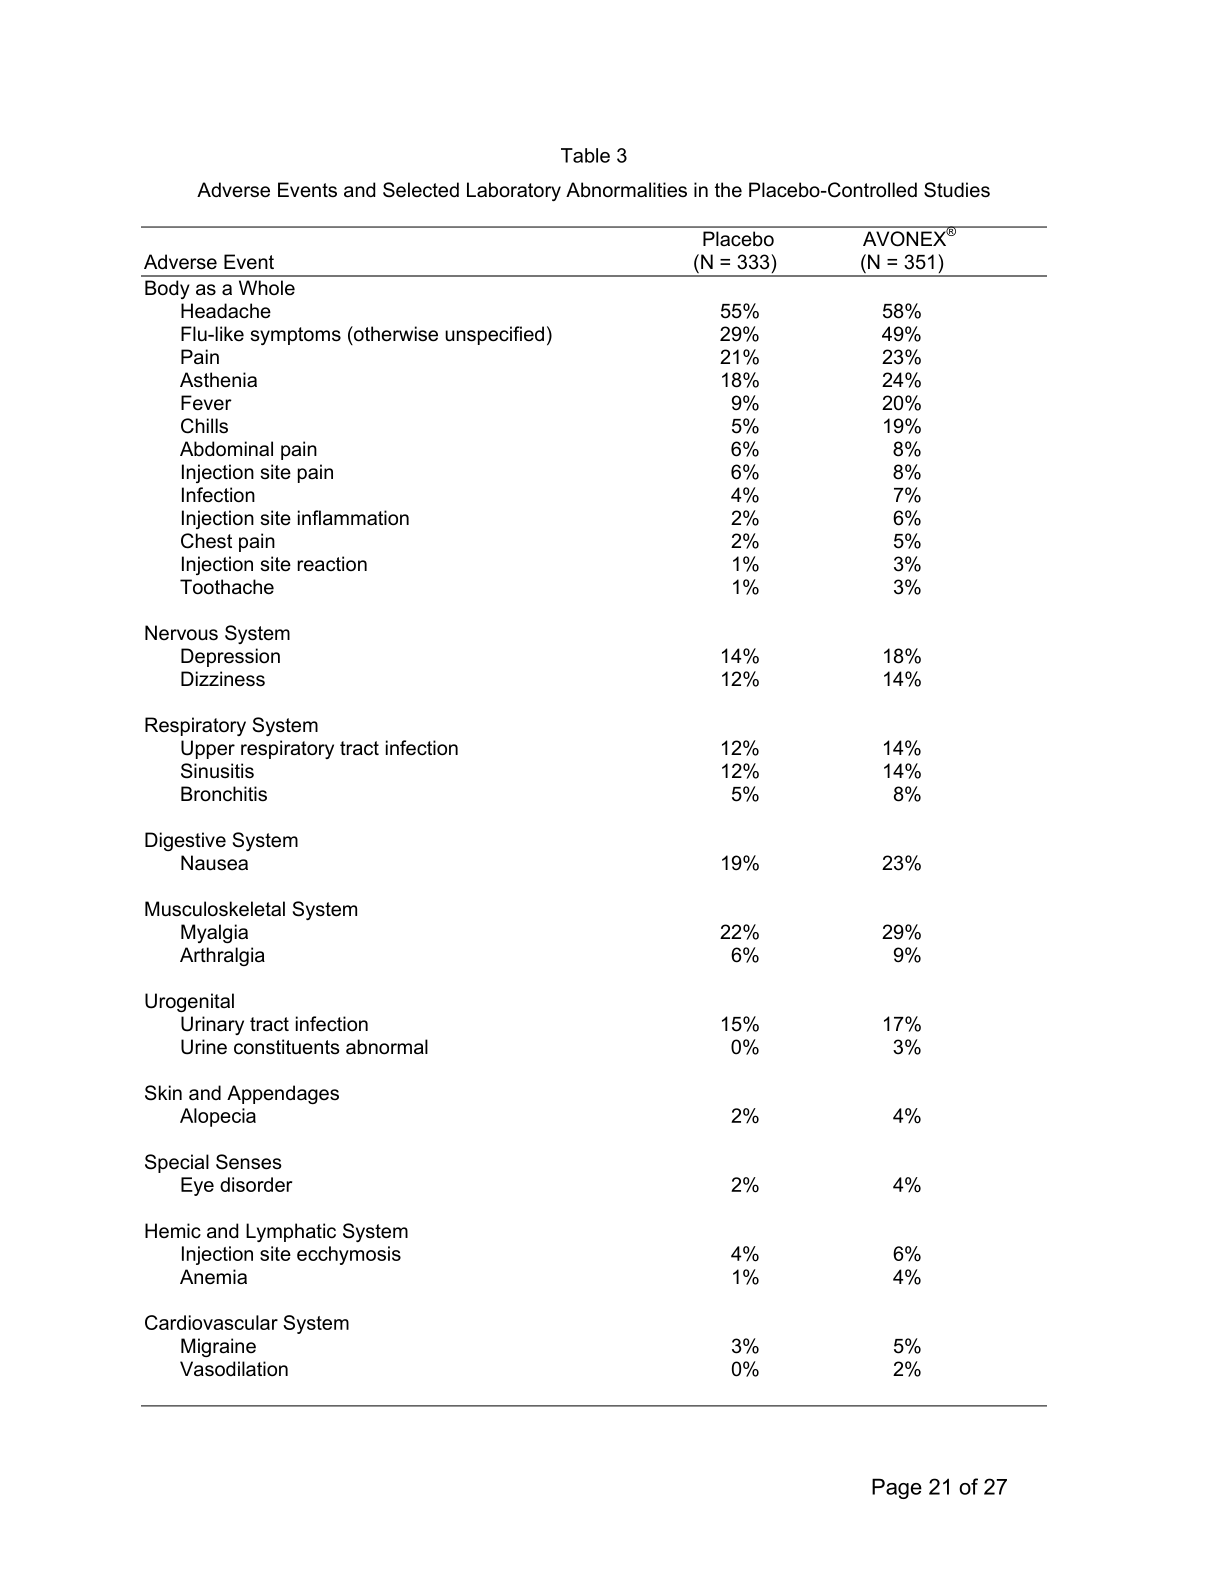partial_lined: (138, 222, 1048, 1409)
